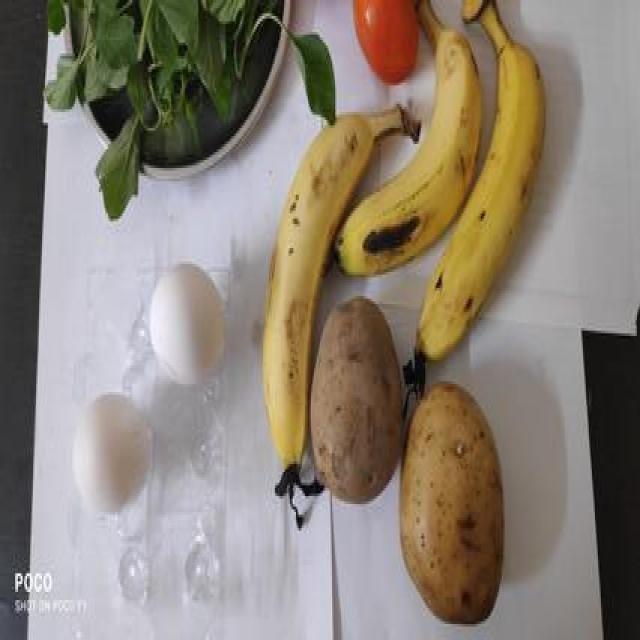Fresh_tomato: (349, 0, 422, 59)
